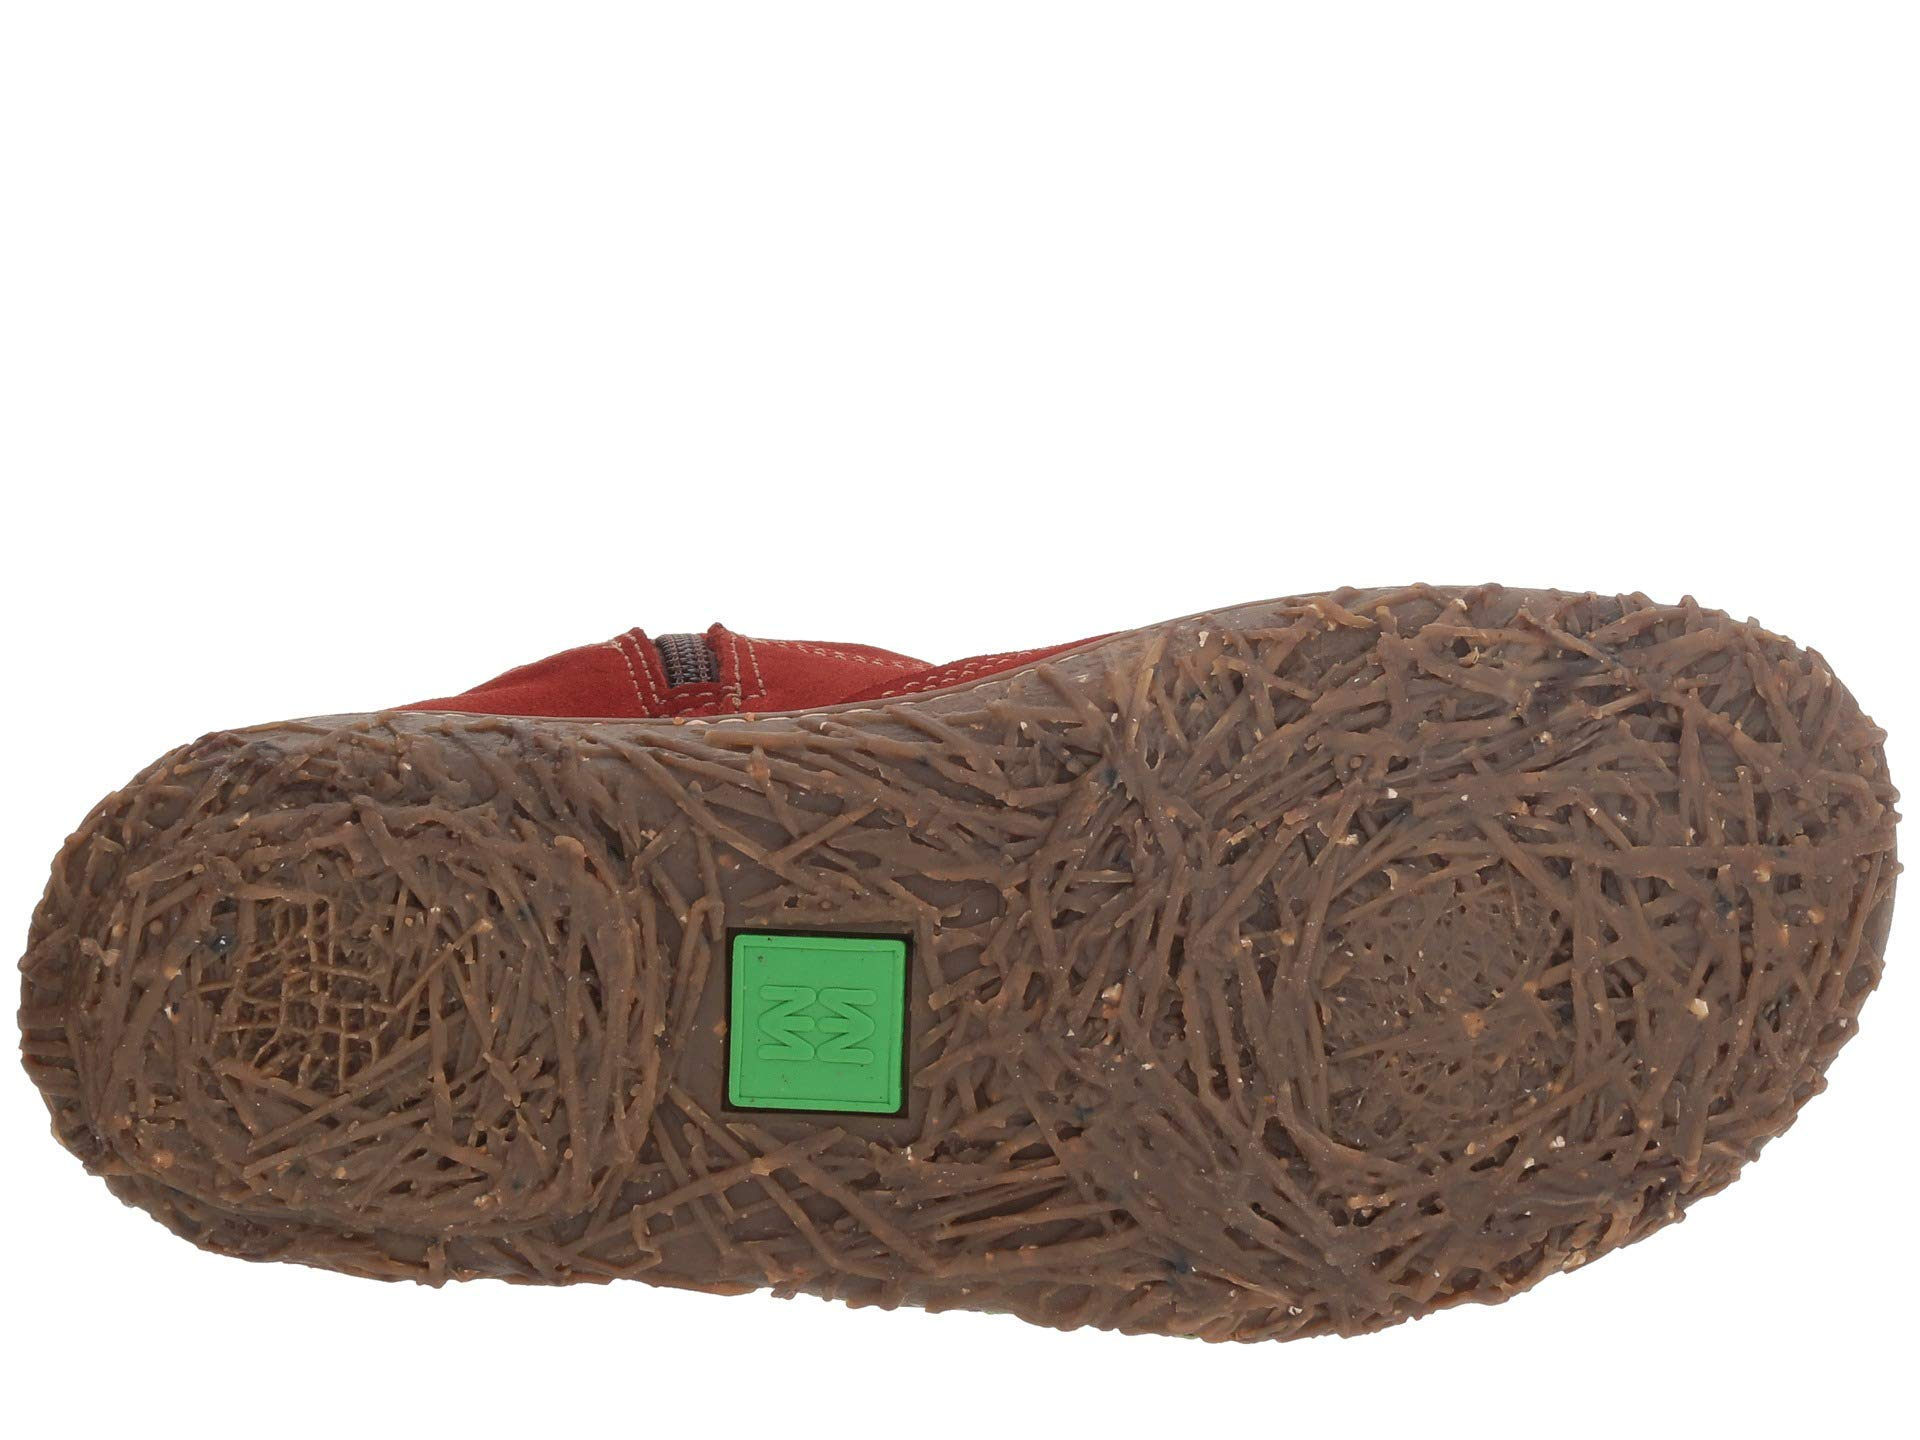other: (1084, 681, 1607, 1225), (159, 830, 635, 1221)
quad: (694, 920, 940, 1141)
text: (694, 920, 940, 1141)
